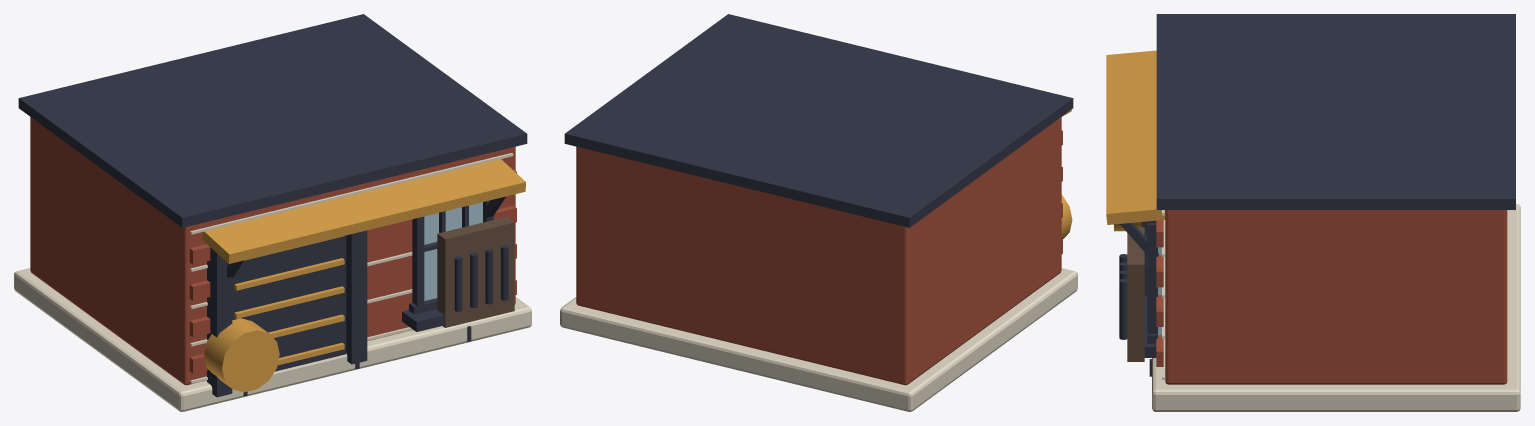
The model's file is conversion_workshop_repair.glb.
3 renders of one model, left to right at view 1: azimuth 30°, elevation 25°; view 2: azimuth 150°, elevation 25°; view 3: azimuth 270°, elevation 25°, orthographic. The views are drawn at different scales.
Parts seen in each view (by area): view 1: conversion_workshop_repair ink, conversion_workshop_repair clay, conversion_workshop_repair ochre, conversion_workshop_repair mist, conversion_workshop_repair wood, conversion_workshop_repair mortar, conversion_workshop_repair steel, conversion_workshop_repair glass; view 2: conversion_workshop_repair clay, conversion_workshop_repair ink, conversion_workshop_repair mist; view 3: conversion_workshop_repair ink, conversion_workshop_repair clay, conversion_workshop_repair mist, conversion_workshop_repair ochre, conversion_workshop_repair wood, conversion_workshop_repair steel, conversion_workshop_repair mortar.
Part boxes in pixels (left/top/right/bottom): conversion_workshop_repair ink: left=18, top=14, right=527, bottom=397; conversion_workshop_repair clay: left=30, top=117, right=516, bottom=385; conversion_workshop_repair ochre: left=202, top=159, right=525, bottom=392; conversion_workshop_repair mist: left=14, top=268, right=531, bottom=411; conversion_workshop_repair wood: left=437, top=216, right=514, bottom=327; conversion_workshop_repair mortar: left=190, top=153, right=513, bottom=383; conversion_workshop_repair steel: left=454, top=245, right=508, bottom=311; conversion_workshop_repair glass: left=424, top=202, right=482, bottom=300; conversion_workshop_repair clay: left=576, top=117, right=1062, bottom=385; conversion_workshop_repair ink: left=564, top=14, right=1073, bottom=227; conversion_workshop_repair mist: left=560, top=268, right=1077, bottom=411; conversion_workshop_repair ink: left=1120, top=14, right=1515, bottom=376; conversion_workshop_repair clay: left=1156, top=210, right=1507, bottom=384; conversion_workshop_repair mist: left=1152, top=204, right=1520, bottom=411; conversion_workshop_repair ochre: left=1106, top=50, right=1165, bottom=231; conversion_workshop_repair wood: left=1127, top=227, right=1144, bottom=361; conversion_workshop_repair steel: left=1119, top=254, right=1127, bottom=339; conversion_workshop_repair mortar: left=1162, top=210, right=1164, bottom=379.
Size of the model in its own units: 0.915 by 0.48 by 0.8484.
